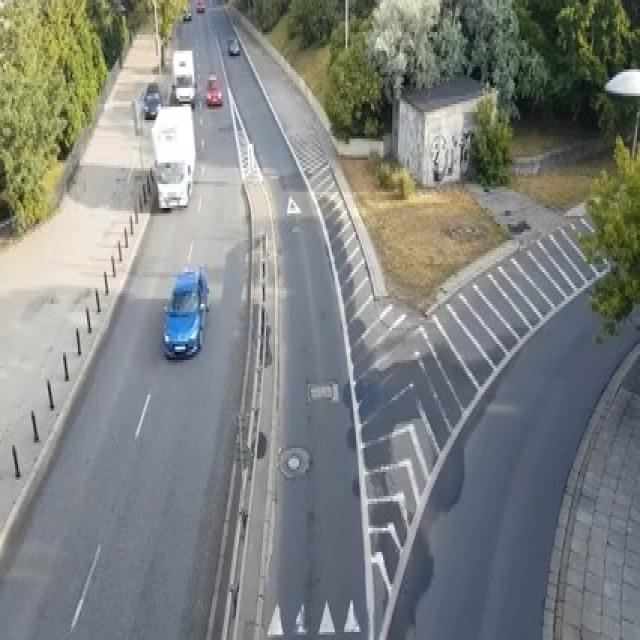bus: (150, 101, 196, 211), (170, 48, 195, 107)
car: (162, 264, 209, 357), (142, 80, 160, 117), (206, 72, 222, 107), (227, 35, 239, 53), (182, 11, 191, 21), (196, 0, 204, 11)
